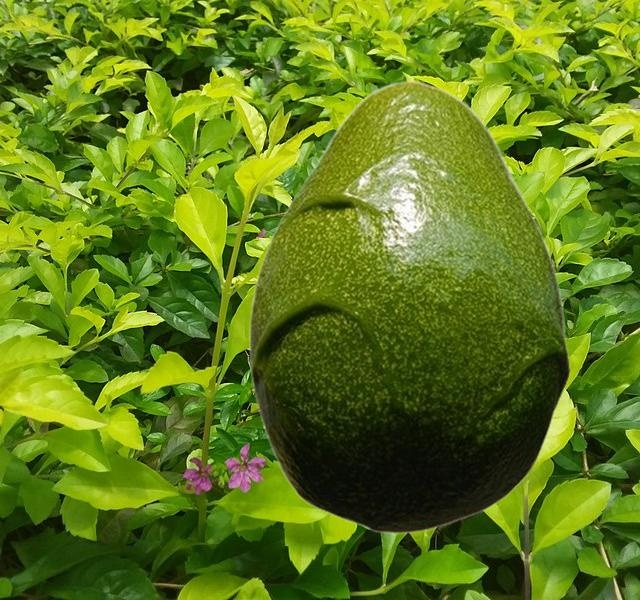avocado: (248, 79, 570, 533)
